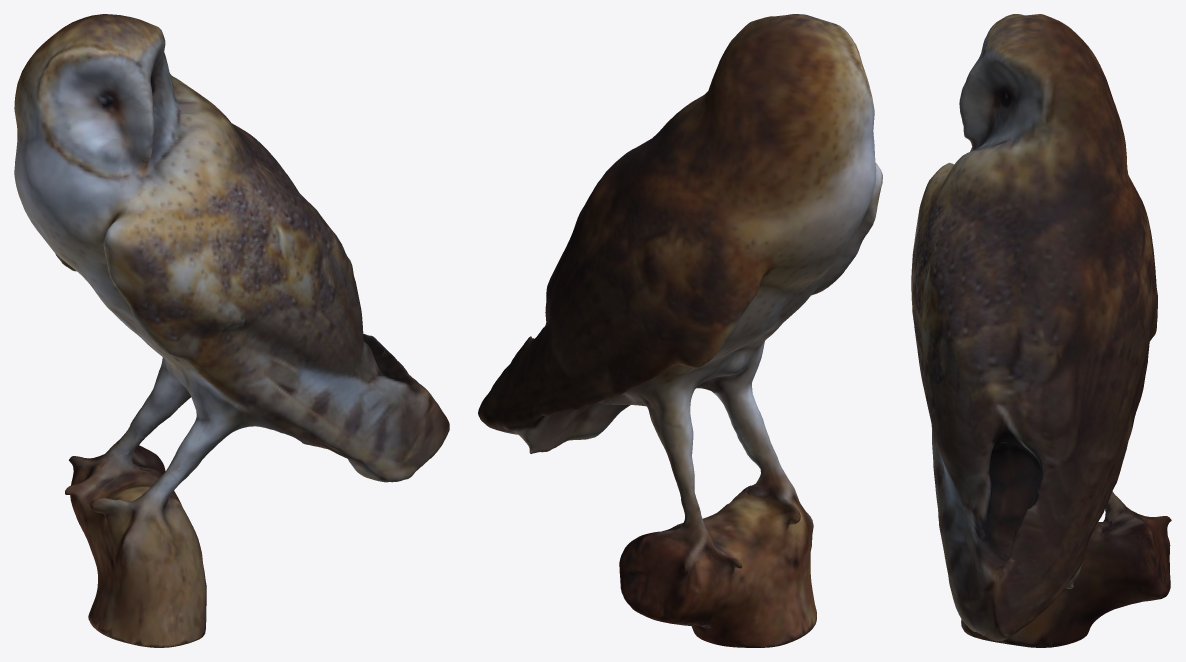
File: owl.glb
3 renders of one model, left to right at view 1: azimuth 30°, elevation 25°; view 2: azimuth 150°, elevation 25°; view 3: azimuth 270°, elevation 25°, orthographic. The views are drawn at different scales.
Parts seen in each view (by area): view 1: Owl; view 2: Owl; view 3: Owl.
Part boxes in pixels (x1=…): Owl: x1=14, y1=14, x2=449, y2=647; Owl: x1=478, y1=14, x2=882, y2=647; Owl: x1=911, y1=14, x2=1171, y2=647.
Bounding box in the file's own units: 0.2624 × 0.3757 × 0.1518.
1 material, 1 textured.
